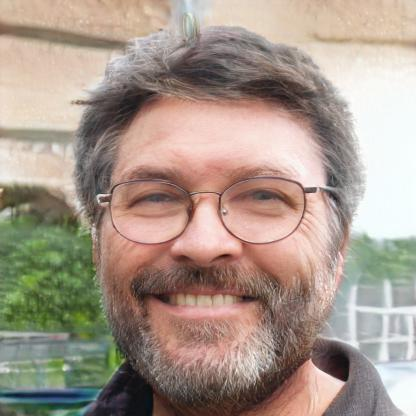glasses: (98, 175, 312, 248)
